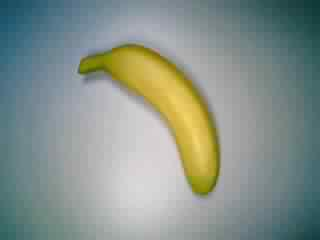banana: (76, 41, 232, 198)
